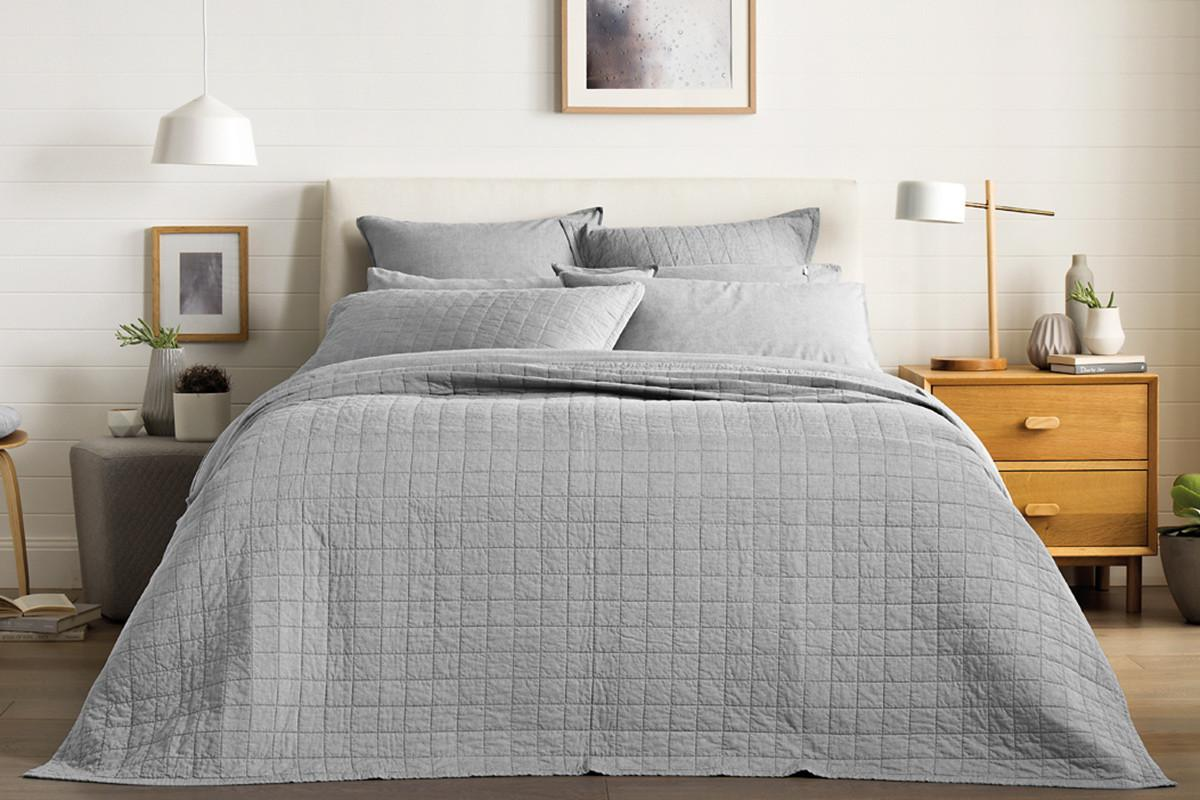bed: (270, 230, 998, 728)
